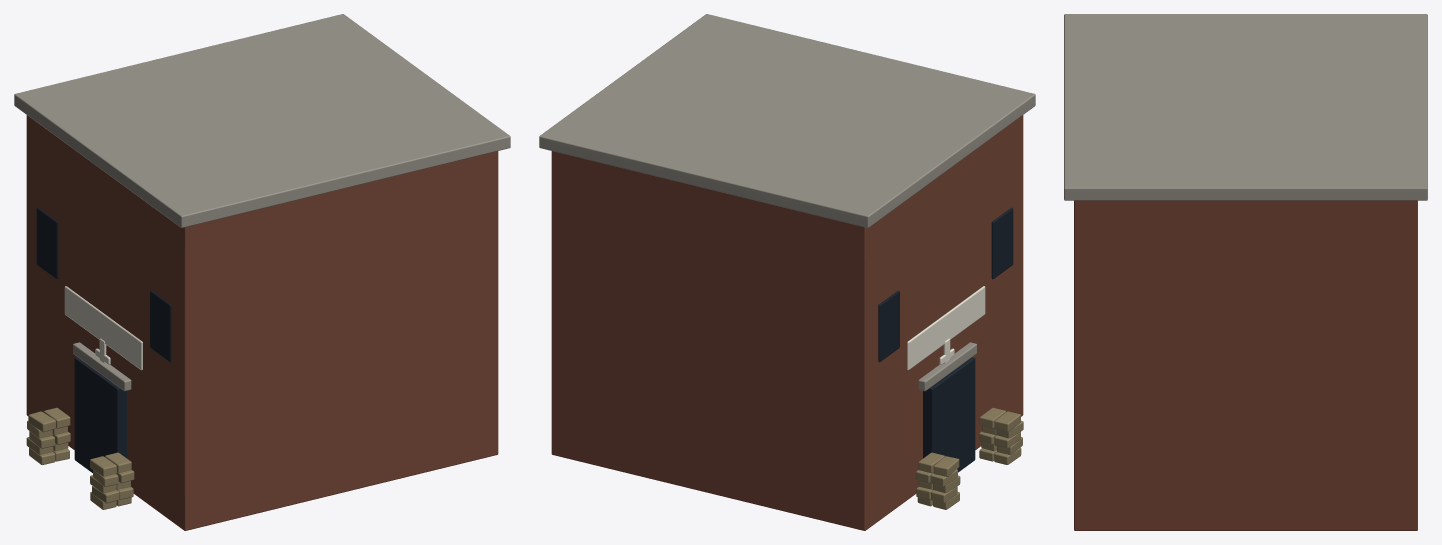
The model's file is schuilkelder.glb.
3 renders of one model, left to right at view 1: azimuth 30°, elevation 25°; view 2: azimuth 150°, elevation 25°; view 3: azimuth 270°, elevation 25°, orthographic. The views are drawn at different scales.
Visible parts, largest first — view 1: Schuilkelder; view 2: Schuilkelder; view 3: Schuilkelder.
Boxes of the visible parts, x1,y1,x2,y2 form: Schuilkelder: [14, 14, 510, 530]; Schuilkelder: [539, 14, 1035, 530]; Schuilkelder: [1064, 14, 1427, 530].
Bounding box in the file's own units: 9.23 × 7.8 × 7.4.
